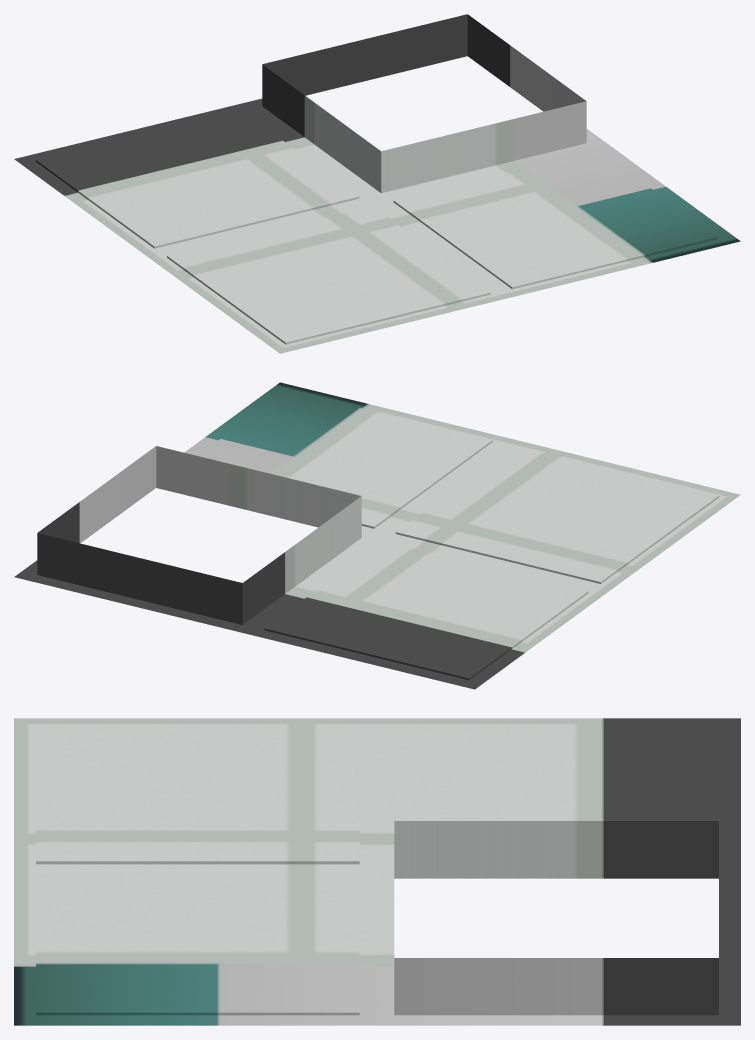
File: Ceiling_Light_2x2.fbx
3 renders of one model, top to bottom at view 1: azimuth 30°, elevation 25°; view 2: azimuth 150°, elevation 25°; view 3: azimuth 270°, elevation 25°, orthographic. The views are drawn at different scales.
Visible parts, largest first — view 1: Ceiling_Light_2x2; view 2: Ceiling_Light_2x2; view 3: Ceiling_Light_2x2.
Part boxes in pixels (x1,y1,x2,y2): Ceiling_Light_2x2: [14, 14, 740, 353]; Ceiling_Light_2x2: [14, 382, 740, 689]; Ceiling_Light_2x2: [14, 718, 740, 1025].
Bounding box in the file's own units: 200 × 17.44 × 200.
